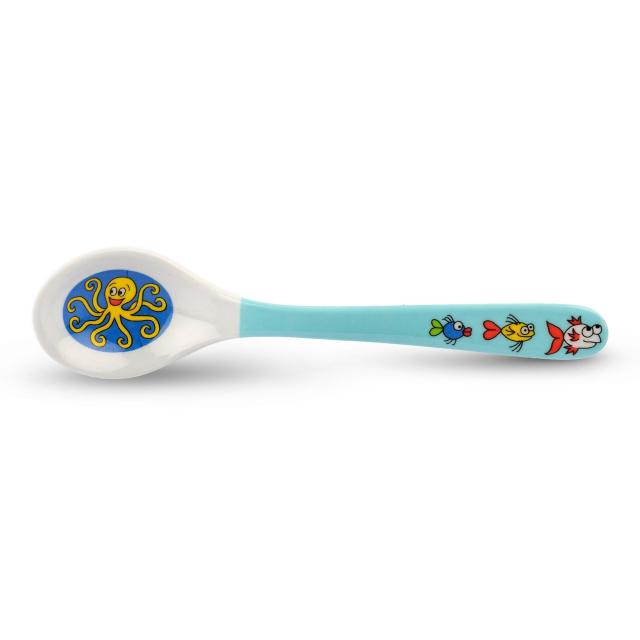spoon: (24, 237, 620, 388)
